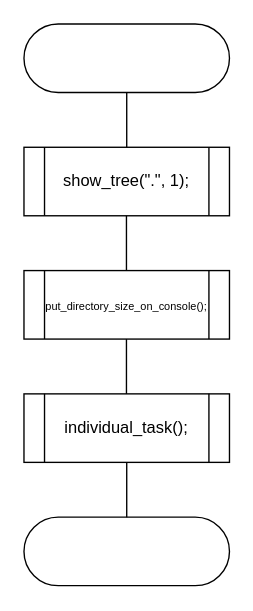
Some shapes in this 253 by 611 pixel diagram are drawn without their labels. Each missing label, with the centre of its shape:
"кінець" belongs at pixel 126 551.
"початок" belongs at pixel 126 57.
